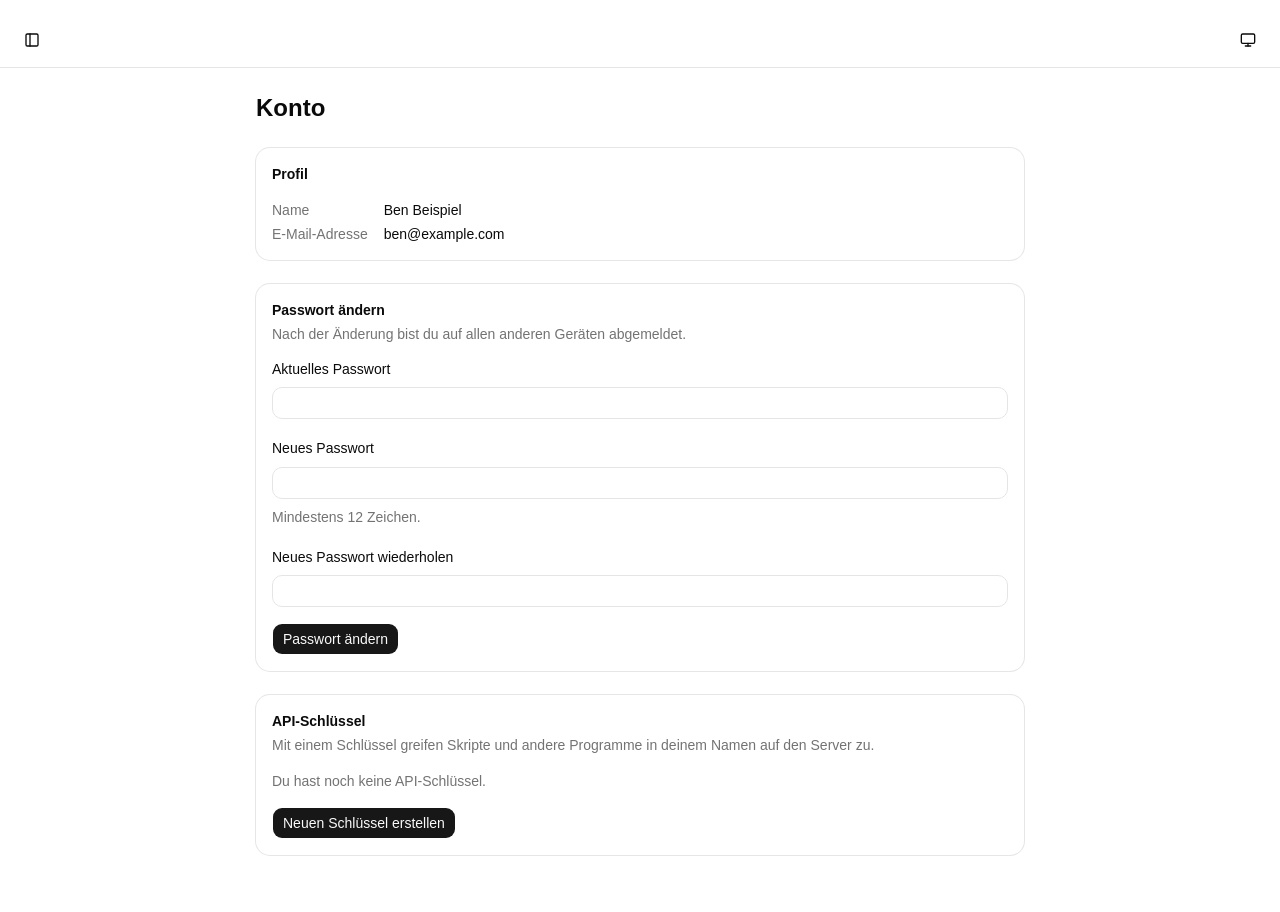
Scenario: AccountPage: change password › does not send anything when a field is empty
The width and height of the screenshot is (1280, 912).
Expected: the heading "Konto" is shown, [256,94,325,121]
In the password field labelled "Neues Passwort": (640, 482) [272,466,1008,498], type "brand new passphrase"
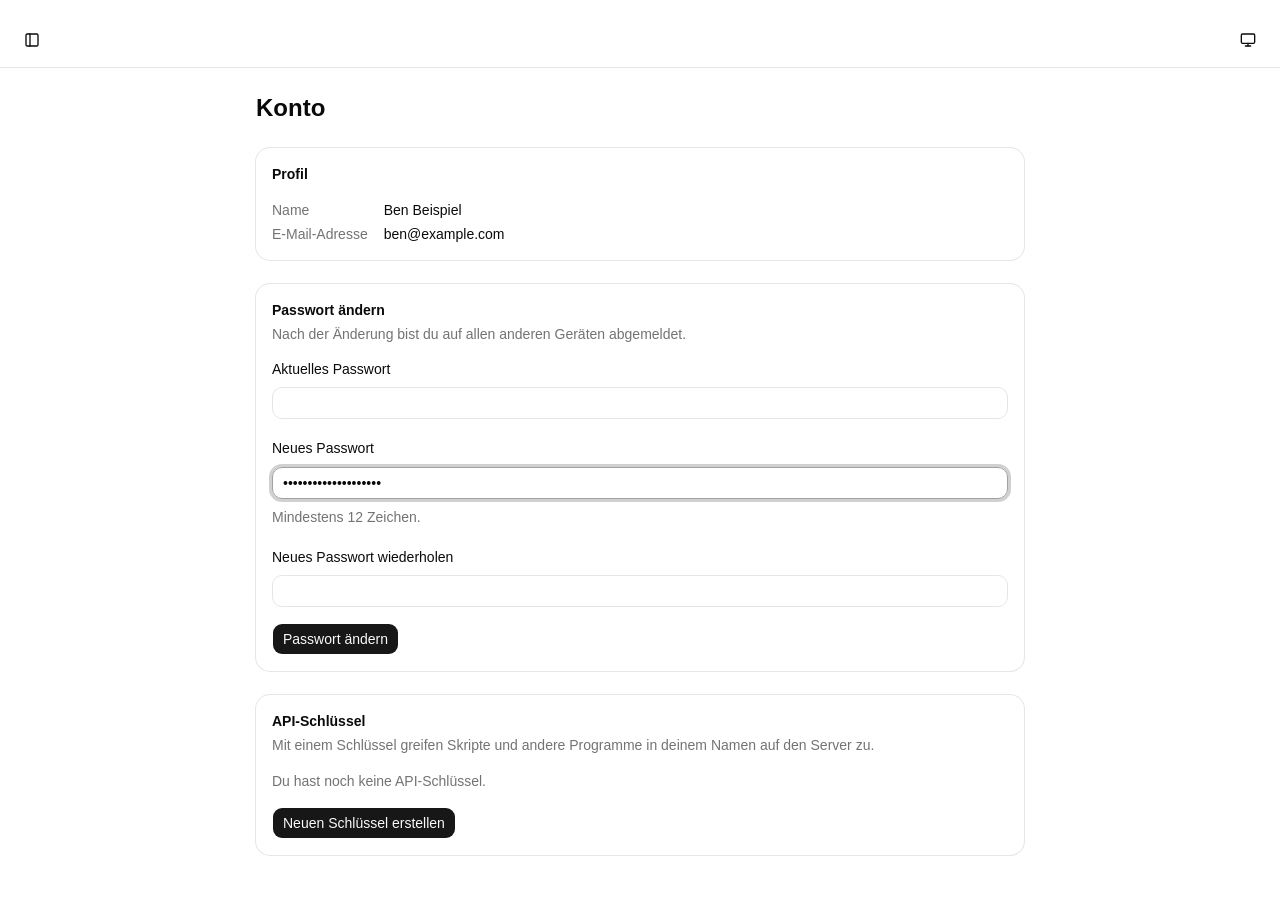
In the password field labelled "Neues Passwort wiederholen": (640, 591) [272,575,1008,607], type "brand new passphrase"
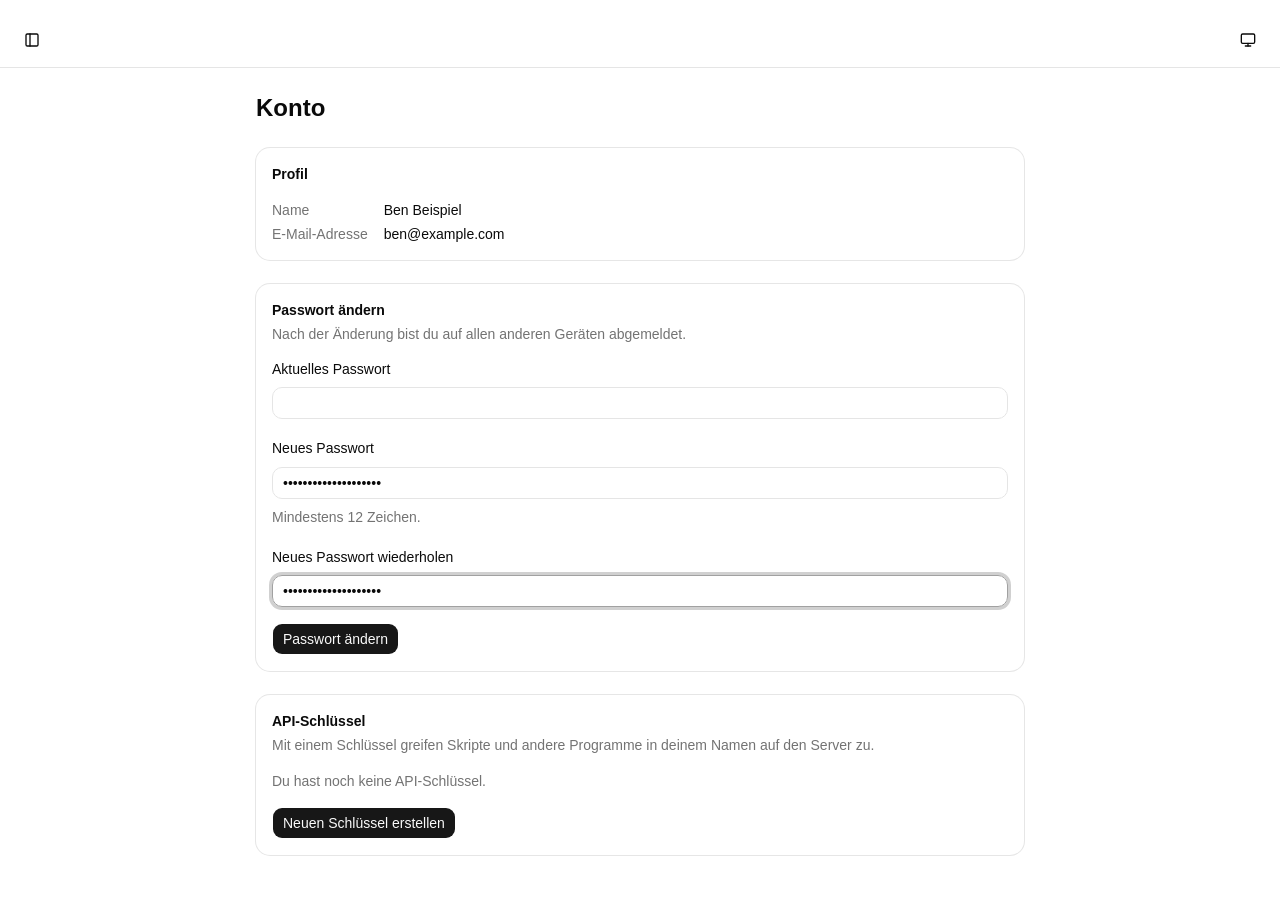
Click the button "Passwort ändern": (336, 639) [272,623,399,655]
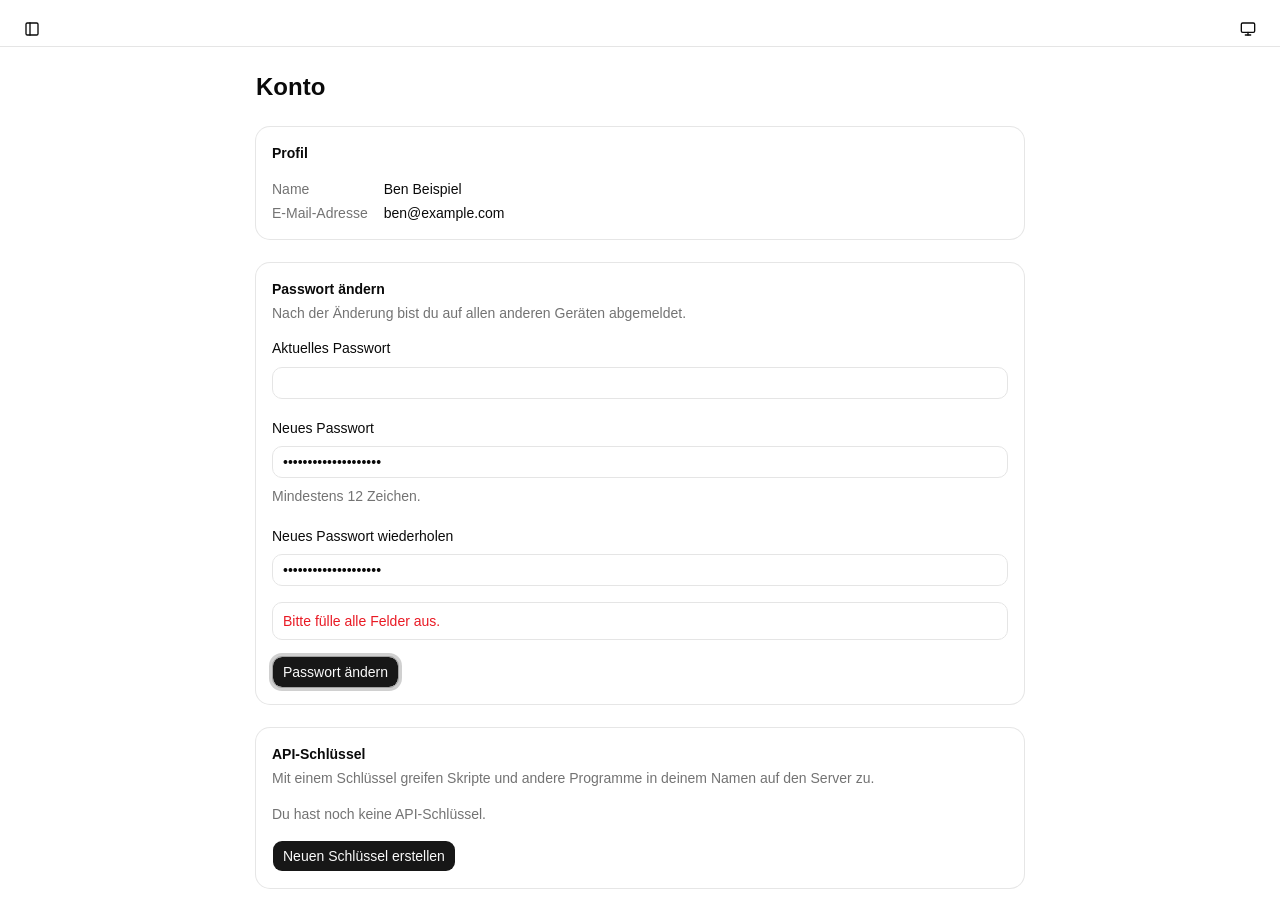
Expected: the text "Bitte fülle alle Felder aus." is shown, [283,613,440,629]
